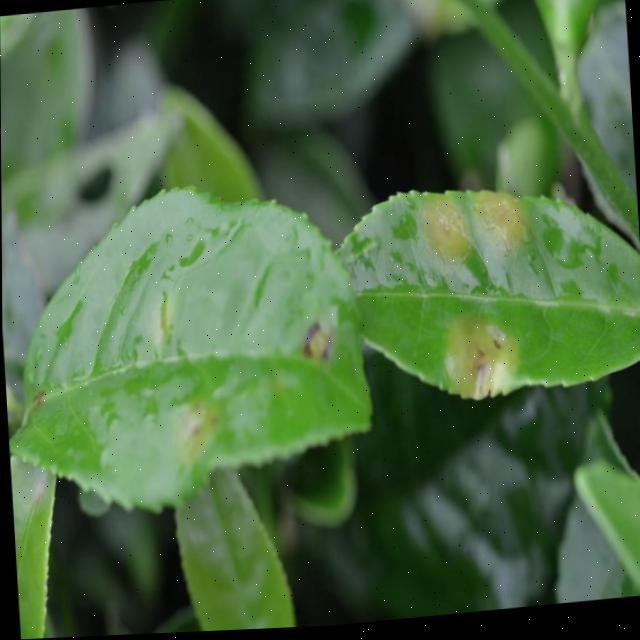Tea cake: (449, 313, 517, 409), (474, 173, 526, 277), (417, 187, 472, 272), (286, 304, 339, 377)
